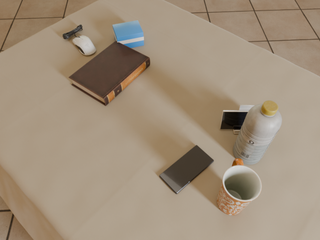book: (69, 41, 150, 106)
bottle: (233, 101, 282, 164)
box: (113, 20, 144, 48)
cup: (217, 158, 262, 215)
mouse: (73, 35, 96, 55)
phone: (159, 145, 214, 194), (220, 111, 248, 129)
